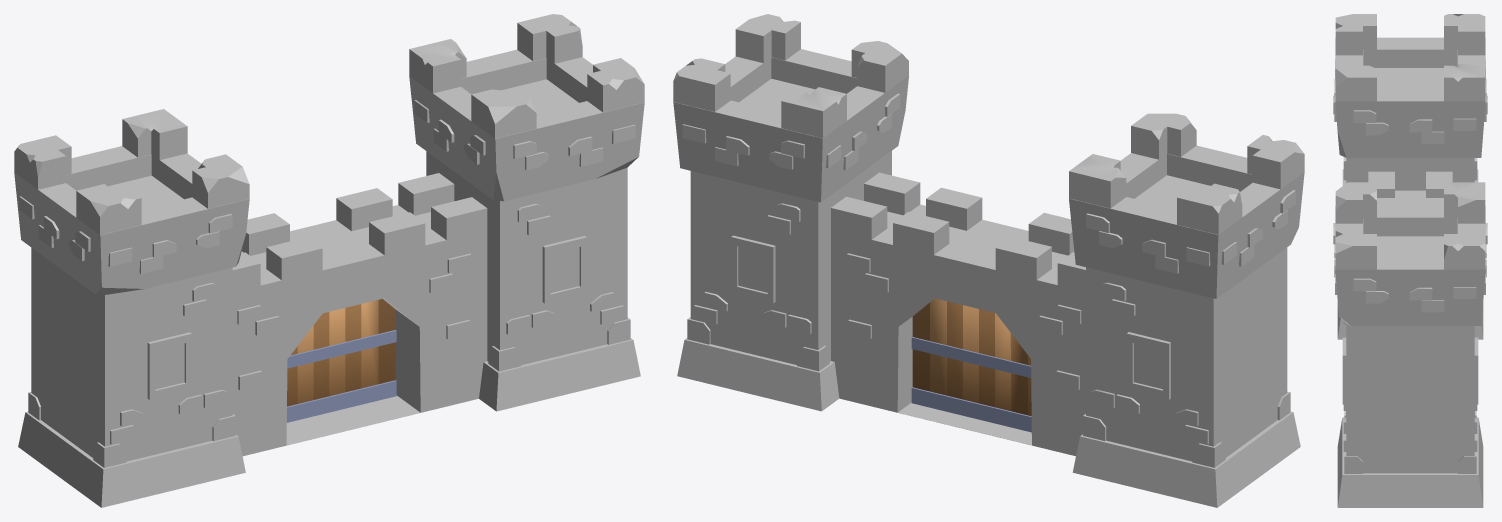
The model's file is Gate.fbx.
3 renders of one model, left to right at view 1: azimuth 30°, elevation 25°; view 2: azimuth 150°, elevation 25°; view 3: azimuth 270°, elevation 25°, orthographic. The views are drawn at different scales.
Parts seen in each view (by area): view 1: Plane.001, Gate; view 2: Plane.001, Gate; view 3: Plane.001.
Part boxes in pixels (<box>): Plane.001: <box>14,14,644,507</box>; Gate: <box>287,299,396,422</box>; Plane.001: <box>673,14,1304,507</box>; Gate: <box>911,298,1031,432</box>; Plane.001: <box>1333,14,1487,507</box>.
Bounding box in the file's own units: 1310 × 688 × 365.
